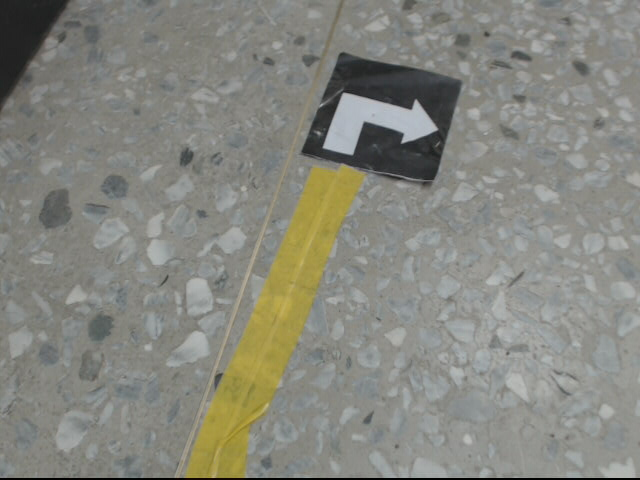right: (301, 50, 461, 186)
